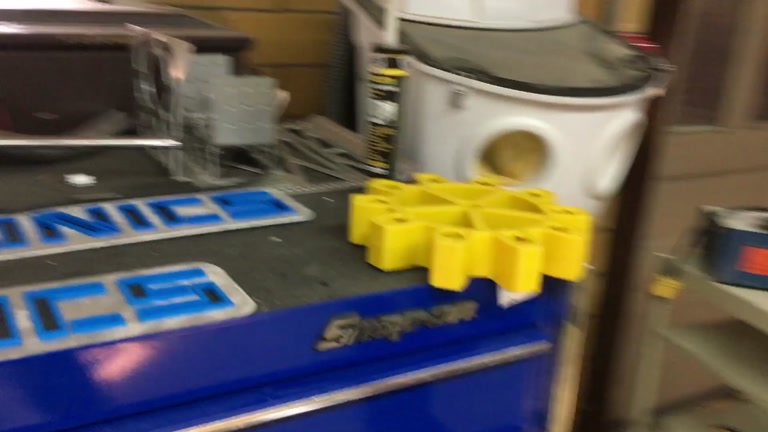gear: (347, 170, 593, 295)
